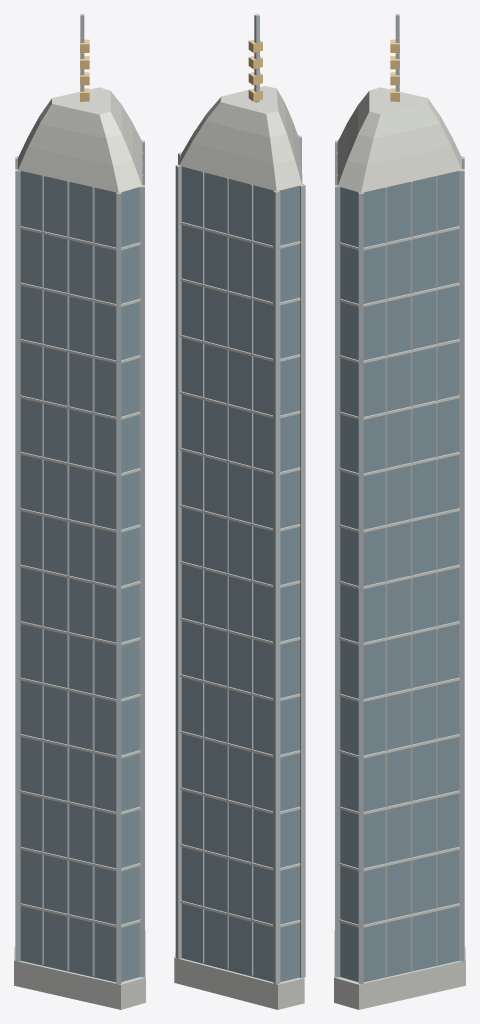
File: central-plaza.glb
3 renders of one model, left to right at view 1: azimuth 90°, elevation 25°; view 2: azimuth 210°, elevation 25°; view 3: azimuth 270°, elevation 25°, orthographic.
Visible parts, largest first — view 1: Central Plaza continuous glass envelope, Central Plaza corner pier, Central Plaza corner pier.005, Central Plaza corner pier.001, Central Plaza stepped crown, Central Plaza stone entrance podium, Central Plaza stepped crown.002, Central Plaza stepped crown.001, Central Plaza facade mullion.007, Central Plaza facade mullion.008, Central Plaza facade mullion.006, flush floor joint Central Plaza.059 (+12 smaller); view 2: Central Plaza continuous glass envelope, Central Plaza corner pier.004, Central Plaza corner pier.003, Central Plaza corner pier.005, Central Plaza stone entrance podium, Central Plaza stepped crown, Central Plaza stepped crown.001, Central Plaza stepped crown.002, Central Plaza facade mullion.004, Central Plaza facade mullion.003, Central Plaza facade mullion.005, flush floor joint Central Plaza.033 (+12 smaller); view 3: Central Plaza continuous glass envelope, Central Plaza corner pier.003, Central Plaza corner pier.004, Central Plaza corner pier.002, Central Plaza stepped crown, Central Plaza stone entrance podium, Central Plaza stepped crown.002, Central Plaza stepped crown.001, Central Plaza facade mullion.003, Central Plaza facade mullion.004, Central Plaza facade mullion.005, flush floor joint Central Plaza.057 (+12 smaller).
Boxes of the visible parts, x1,y1,x2,y2 form: Central Plaza continuous glass envelope: (20, 171, 139, 982); Central Plaza corner pier: (116, 192, 121, 983); Central Plaza corner pier.005: (15, 169, 20, 961); Central Plaza corner pier.001: (139, 185, 144, 977); Central Plaza stepped crown: (18, 123, 142, 192); Central Plaza stone entrance podium: (14, 930, 145, 1009); Central Plaza stepped crown.002: (40, 87, 121, 138); Central Plaza stepped crown.001: (28, 105, 132, 165); Central Plaza facade mullion.007: (67, 181, 69, 970); Central Plaza facade mullion.008: (92, 187, 94, 976); Central Plaza facade mullion.006: (42, 175, 43, 964); flush floor joint Central Plaza.059: (20, 395, 116, 419); Central Plaza continuous glass envelope: (181, 166, 299, 981); Central Plaza corner pier.004: (273, 190, 280, 984); Central Plaza corner pier.003: (175, 164, 181, 958); Central Plaza corner pier.005: (300, 183, 305, 978); Central Plaza stone entrance podium: (174, 952, 304, 1009); Central Plaza stepped crown: (179, 119, 301, 191); Central Plaza stepped crown.001: (191, 102, 294, 164); Central Plaza stepped crown.002: (205, 86, 286, 137); Central Plaza facade mullion.004: (226, 178, 228, 969); Central Plaza facade mullion.003: (202, 172, 204, 962); Central Plaza facade mullion.005: (251, 184, 253, 975); flush floor joint Central Plaza.033: (180, 617, 273, 644); Central Plaza continuous glass envelope: (340, 171, 459, 982); Central Plaza corner pier.003: (358, 192, 363, 983); Central Plaza corner pier.004: (459, 169, 464, 961); Central Plaza corner pier.002: (335, 185, 340, 977); Central Plaza stepped crown: (337, 123, 461, 192); Central Plaza stone entrance podium: (334, 930, 465, 1009); Central Plaza stepped crown.002: (358, 87, 439, 138); Central Plaza stepped crown.001: (347, 105, 451, 165); Central Plaza facade mullion.003: (385, 187, 387, 976); Central Plaza facade mullion.004: (410, 181, 412, 970); Central Plaza facade mullion.005: (436, 175, 437, 964); flush floor joint Central Plaza.057: (363, 395, 459, 419).
Size of the model in its own units: 1.99 by 14.55 by 1.8.
